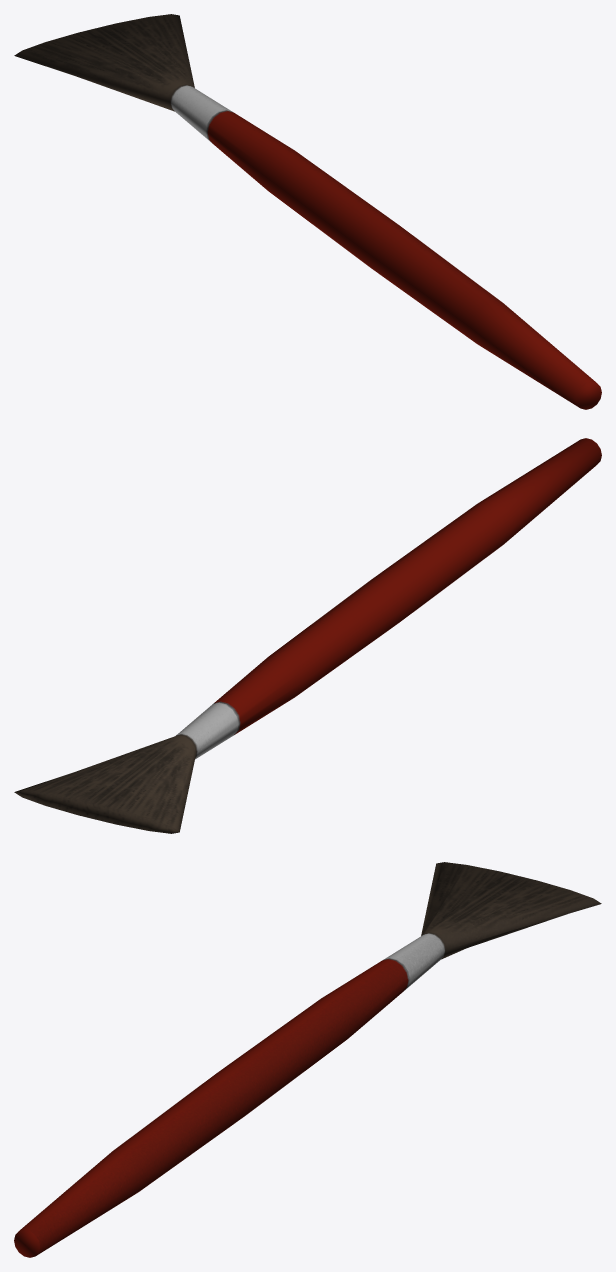
Rendered from brushes_03.fbx.
The picture shows the model from 3 angles, top to bottom: view 1: azimuth 30°, elevation 25°; view 2: azimuth 150°, elevation 25°; view 3: azimuth 330°, elevation 25°; orthographic projection.
Visible parts, largest first — view 1: brushes_03; view 2: brushes_03; view 3: brushes_03.
Part boxes in pixels (x1,y1,x2,y2): brushes_03: (14, 14, 601, 409); brushes_03: (14, 438, 601, 833); brushes_03: (14, 862, 601, 1257).
Size of the model in its own units: 9.9 by 2.6 by 50.9.
